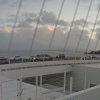Bridge: (1, 51, 100, 86)
